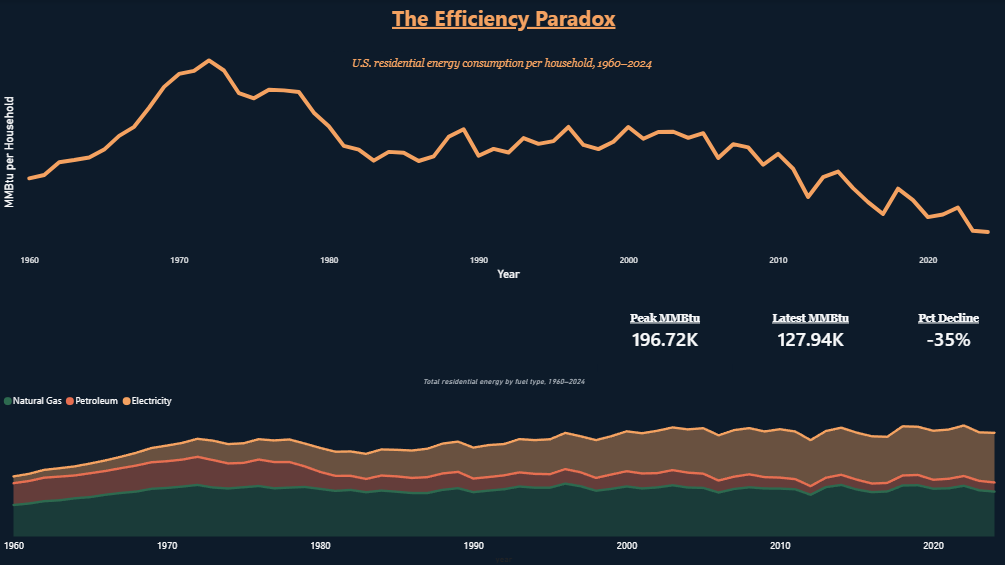

The dashboard page shown, as its layout file describes it:
{"tool":"powerbi","page":{"name":"The Long Arc","canvas":[1280,720],"ordinal":0},"visuals":[{"type":"lineChart","title":"Total residential energy by fuel type, 1960–2024.","fields":{"Category":["energy_consumption_final.year"],"Y":["Sum(energy_consumption_final.total_mmbtu_per_household)"]},"box":[0,53.2,1269.9,308],"z":0},{"type":"stackedAreaChart","title":"Total residential energy by fuel type, 1960–2024","fields":{"Category":["energy_consumption_final.year"],"Y":["Sum(energy_consumption_final.natgas_res_trillion_btu)","Sum(energy_consumption_final.petroleum_res_trillion_btu)","Sum(energy_consumption_final.electricity_res_trillion_btu)"]},"box":[0,479.8,1279.4,240.8],"z":1000},{"type":"cardVisual","fields":{"Data":["energy_consumption_final.Peak MMBtu"]},"box":[759.1,360.3,169.6,119.5],"z":2000},{"type":"cardVisual","fields":{"Data":["energy_consumption_final.Latest MMBtu"]},"box":[928.7,360.3,196.5,119.5],"z":3000},{"type":"cardVisual","fields":{"Data":["energy_consumption_final.Pct Decline"]},"box":[1125.2,360.3,154.1,119.5],"z":4000},{"type":"textbox","box":[0,0,1279.4,53.2],"z":5000},{"type":"textbox","box":[416.2,67.4,441.2,40.5],"z":6000}]}

Visuals, with their boxes in screenshot pixels (x1, y1, x2, y2), scaled from the page's 1280x720 canvas onto the 1005x565 screenshot:
"Total residential energy by fuel type, 1960–2024." lineChart: l=0, t=42, r=997, b=283
"Total residential energy by fuel type, 1960–2024" stackedAreaChart: l=0, t=377, r=1004, b=564
cardVisual - energy_consumption_final.Peak MMBtu: l=596, t=283, r=729, b=377
cardVisual - energy_consumption_final.Latest MMBtu: l=729, t=283, r=883, b=377
cardVisual - energy_consumption_final.Pct Decline: l=883, t=283, r=1004, b=377
textbox: l=0, t=0, r=1004, b=42
textbox: l=327, t=53, r=673, b=85
